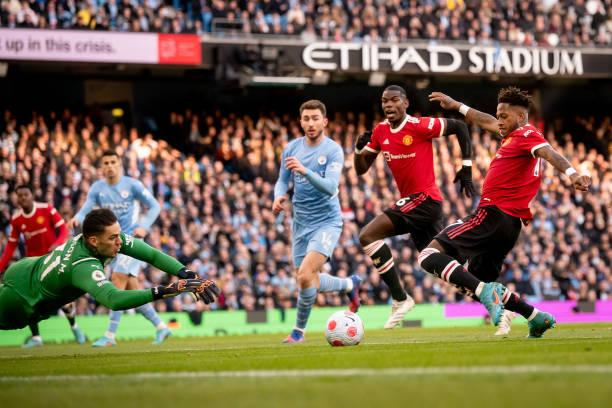Goalkeeper: (0, 209, 219, 329)
Player: (418, 87, 590, 338), (354, 85, 475, 328), (273, 100, 360, 342), (75, 175, 171, 346), (0, 185, 84, 350)
ball: (324, 311, 365, 346)
